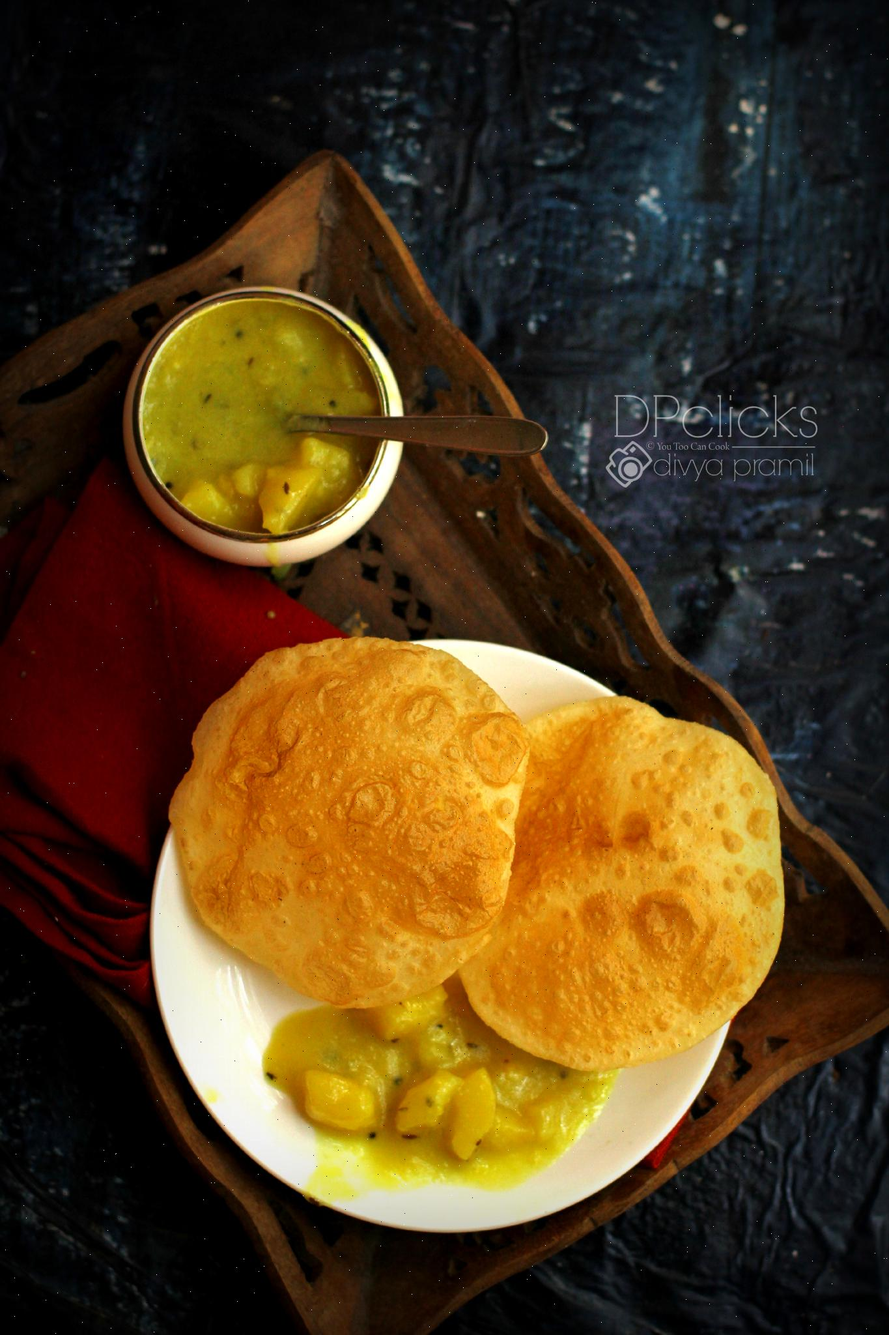puri: (165, 648, 796, 1066)
